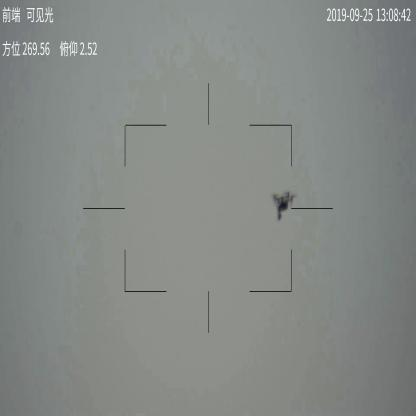uav: (272, 189, 298, 220)
